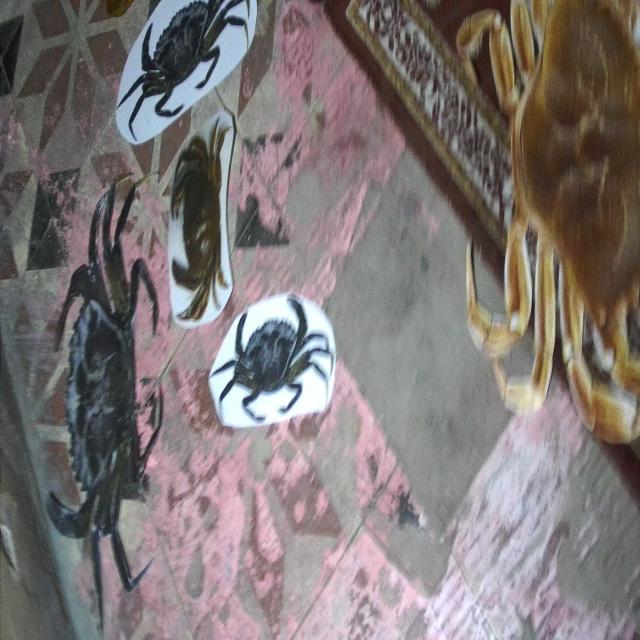European_Green_Crab: (33, 170, 173, 620), (108, 0, 259, 155), (208, 277, 338, 449)
